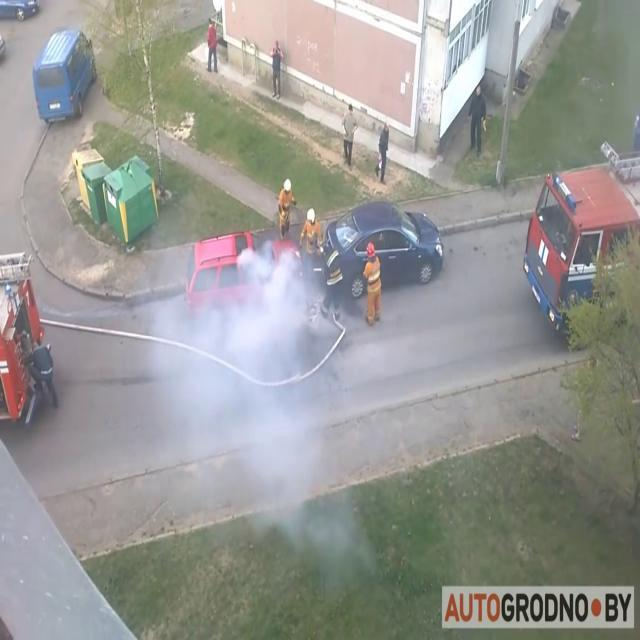Smoke: (144, 226, 348, 576)
